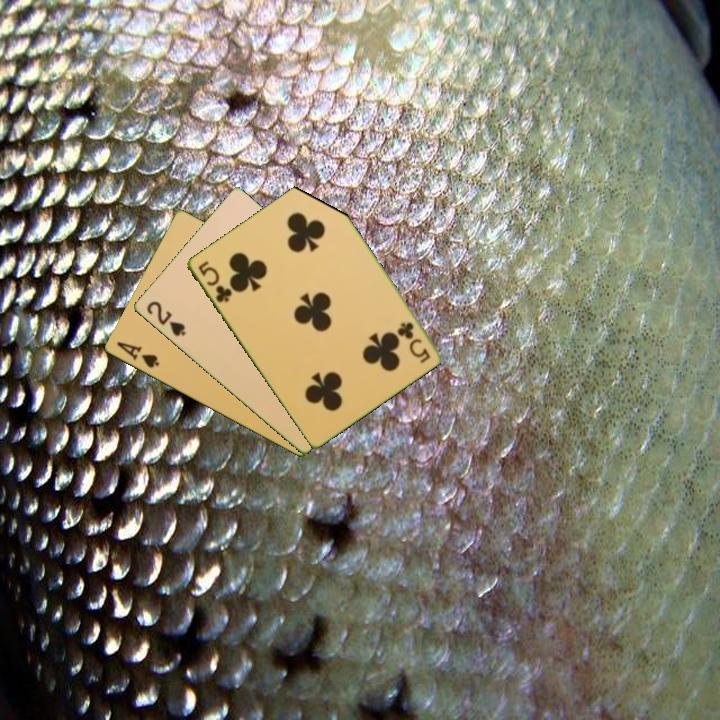2s: (143, 297, 188, 339)
5c: (194, 257, 235, 306), (394, 318, 433, 366)
As: (113, 338, 162, 371)
